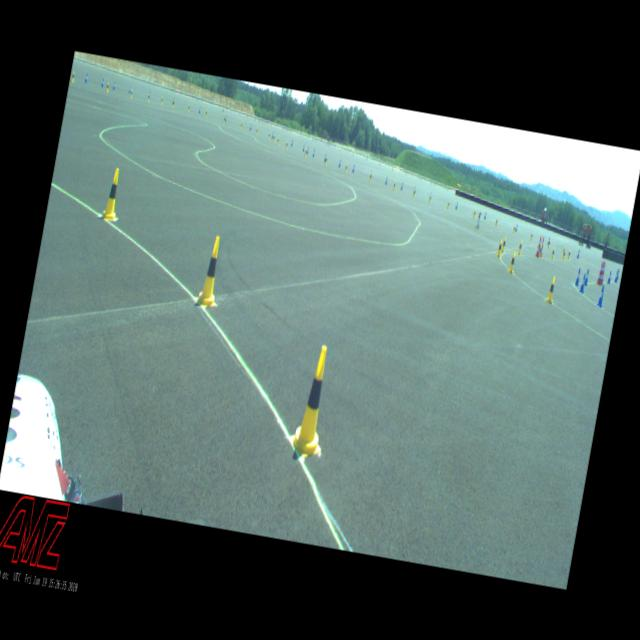blue_cone: (596, 285, 605, 307), (579, 272, 587, 292), (574, 268, 581, 286), (584, 269, 590, 285), (606, 270, 612, 284), (614, 271, 618, 282), (112, 80, 116, 90), (454, 200, 458, 210), (84, 73, 88, 82), (576, 249, 580, 258), (616, 268, 619, 280), (324, 152, 327, 162), (290, 139, 294, 146), (101, 78, 104, 87), (312, 148, 315, 156), (338, 158, 341, 166), (400, 182, 403, 190), (128, 85, 131, 93), (385, 177, 388, 184), (352, 164, 354, 173), (249, 124, 251, 130)
large_orange_cone: (596, 261, 604, 284), (534, 236, 542, 257), (600, 261, 606, 285), (538, 236, 544, 258)
yellow_cone: (288, 342, 338, 458), (195, 234, 228, 308), (100, 167, 124, 221), (545, 274, 557, 304), (508, 250, 516, 272), (496, 238, 502, 256), (500, 234, 506, 252), (517, 239, 522, 254), (538, 244, 542, 257), (550, 246, 554, 258), (566, 248, 570, 260), (412, 187, 417, 196), (562, 249, 566, 260), (344, 162, 348, 172), (70, 72, 74, 82), (368, 172, 372, 182), (472, 208, 476, 218), (146, 92, 150, 102), (392, 181, 396, 190), (129, 89, 133, 98), (106, 82, 110, 91), (512, 224, 516, 233), (428, 193, 432, 202), (324, 156, 328, 164), (495, 217, 498, 226), (285, 140, 288, 149), (547, 239, 550, 248), (160, 96, 163, 104), (530, 232, 533, 240), (562, 246, 565, 254), (255, 127, 258, 134), (204, 110, 207, 117), (172, 98, 174, 107), (304, 148, 306, 156)
